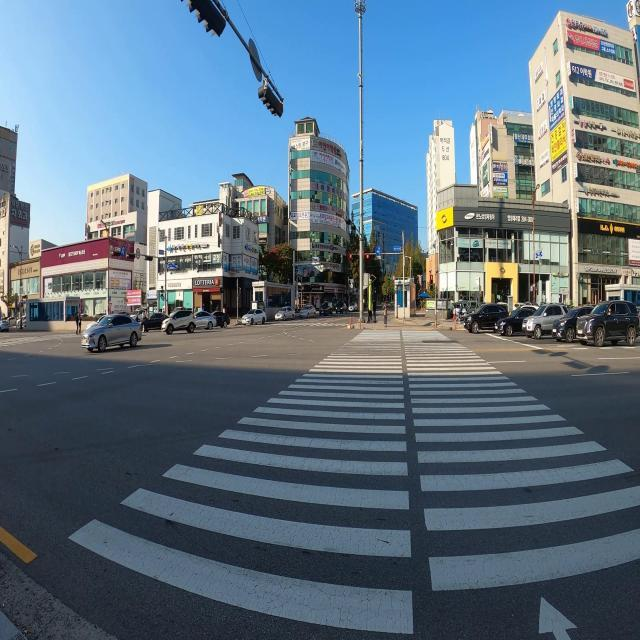crosswalk: (40, 326, 640, 639), (0, 332, 81, 349), (247, 322, 353, 327), (372, 309, 394, 314)
